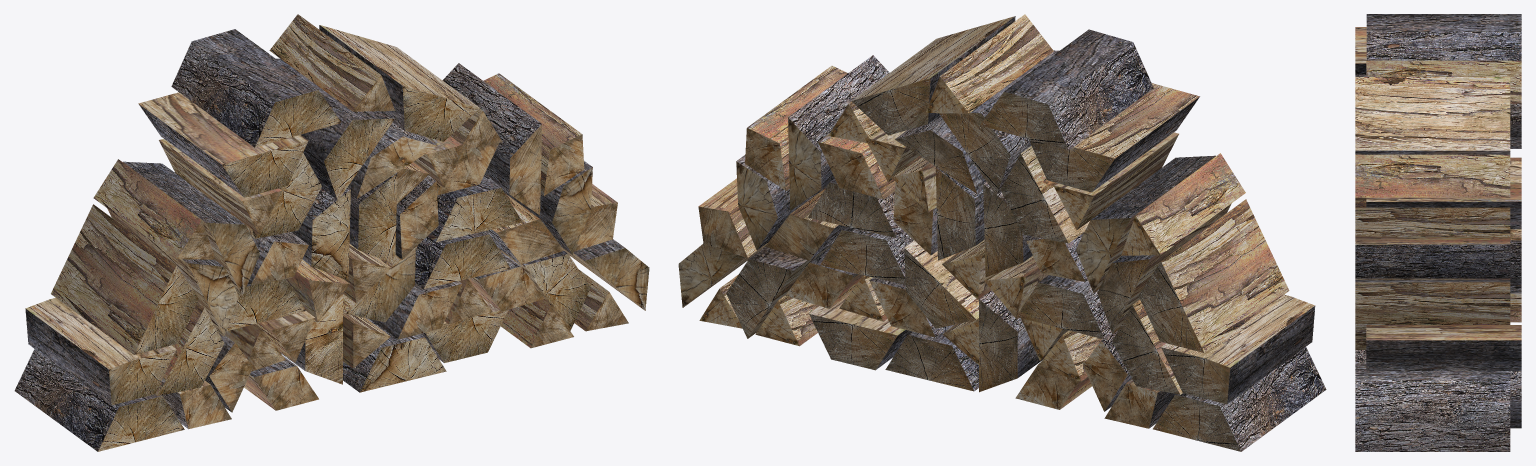
File: wood2.fbx
3 renders of one model, left to right at view 1: azimuth 30°, elevation 25°; view 2: azimuth 150°, elevation 25°; view 3: azimuth 270°, elevation 25°, orthographic. The views are drawn at different scales.
Parts seen in each view (by area): view 1: polySurface651; view 2: polySurface651; view 3: polySurface651.
Part boxes in pixels (x1,y1,x2,y2): polySurface651: (14, 14, 649, 451); polySurface651: (678, 14, 1326, 451); polySurface651: (1355, 14, 1521, 451).
Bounding box in the file's own units: 1.5 × 0.7945 × 0.4202.
